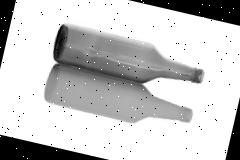glass: (50, 20, 208, 99)
